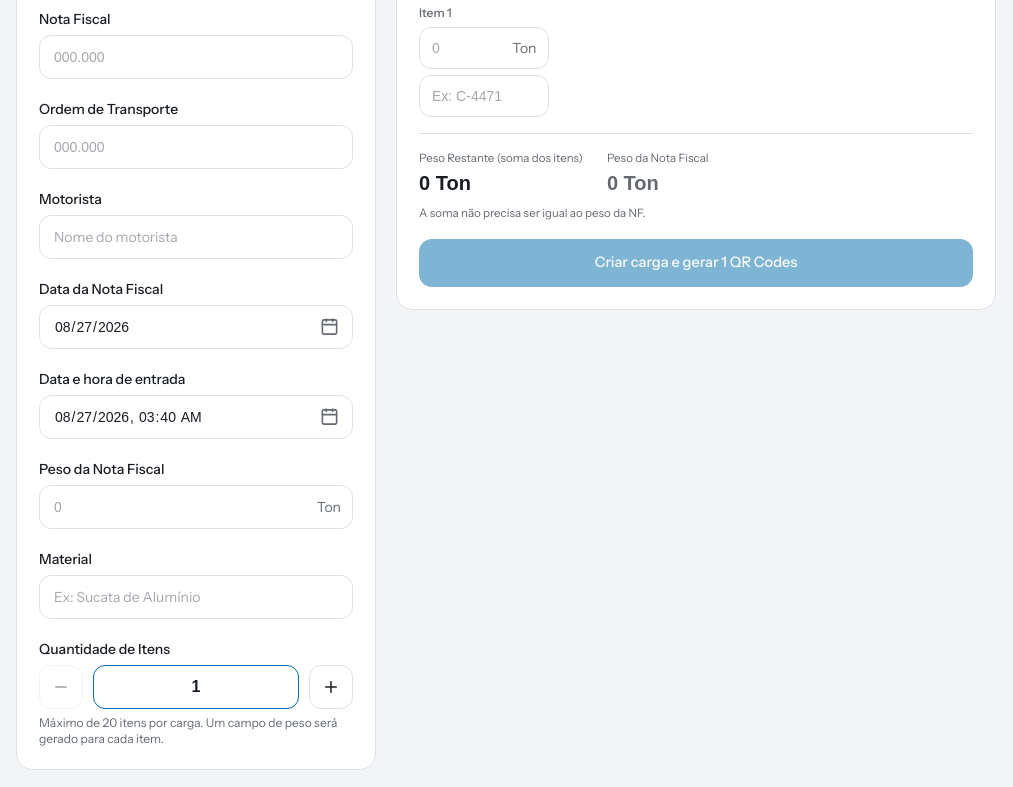
Test: NewLoadForm › renders one per-item Corrida field per weight field, with an accessible label naming the item number
The image size is (1013, 787).
(page scrolled)
Step 1. Click the button named "Aumentar quantidade de itens" → (331, 687), box [309,665,353,709]
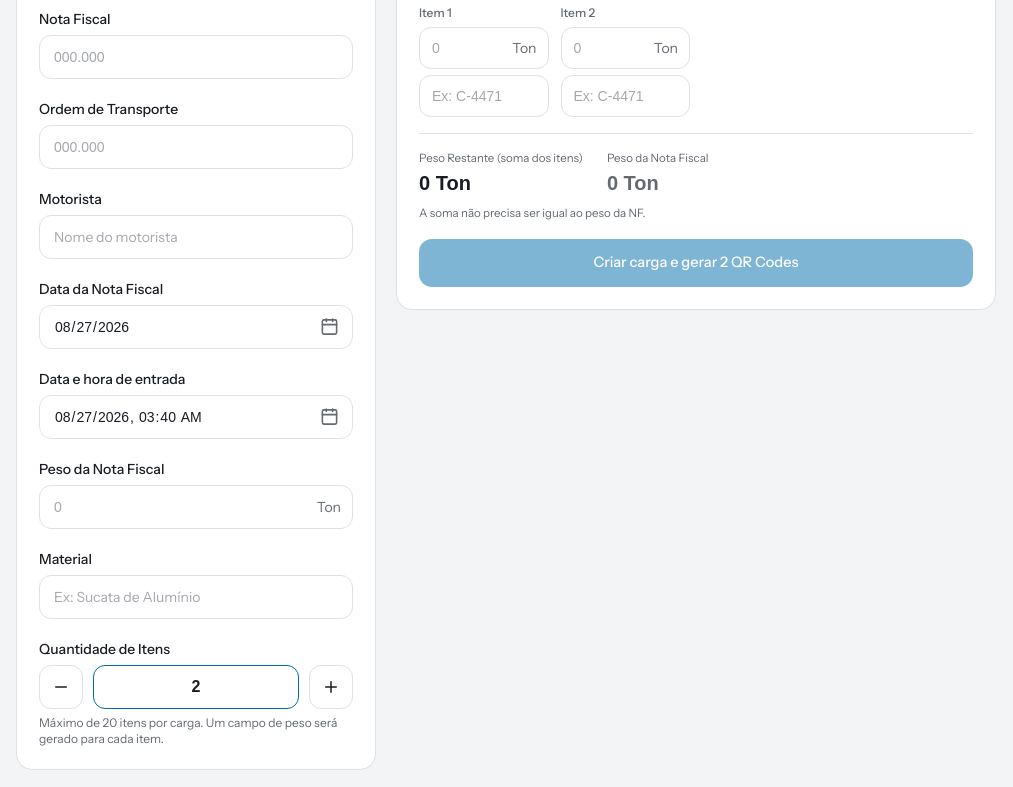
Step 2. Click the button named "Aumentar quantidade de itens" → (331, 687), box [309,665,353,709]
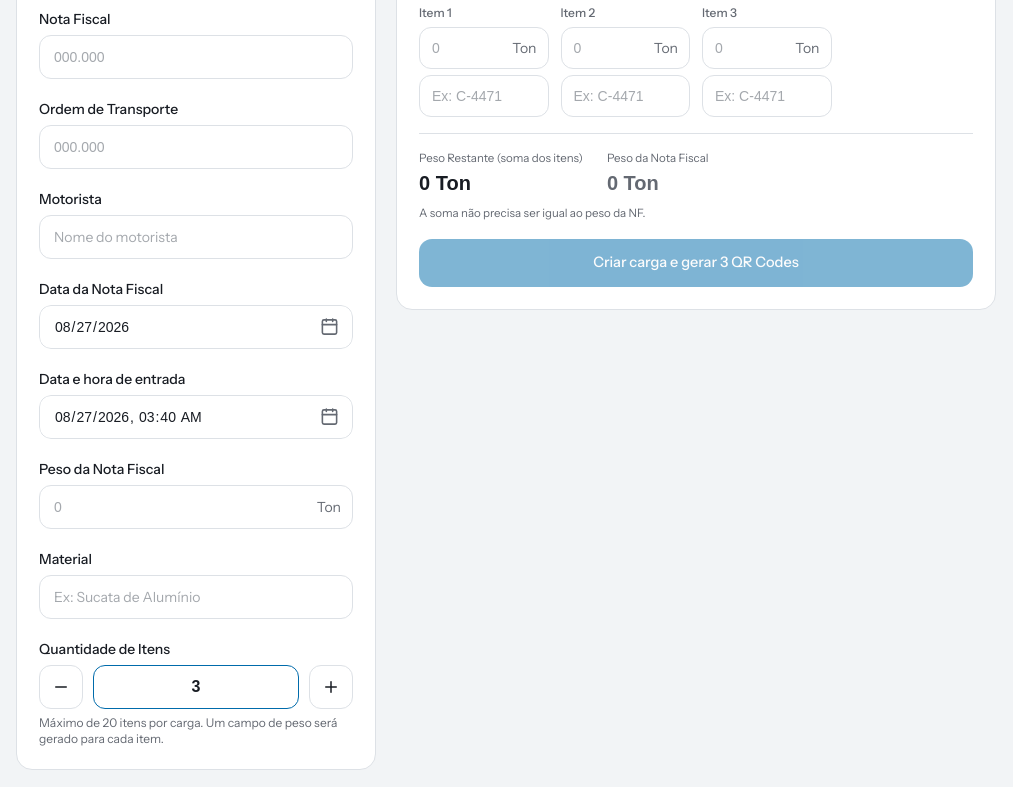
Expected: the field named "Corrida do item 1" is shown, [419,75,548,117]
Expected: the number of fields labelled "Ex: C-4471" is 3, [419,75,548,117]; [560,75,690,117]; [702,75,832,117]
Expected: the field named "Corrida do item 3" is shown, [702,75,832,117]
